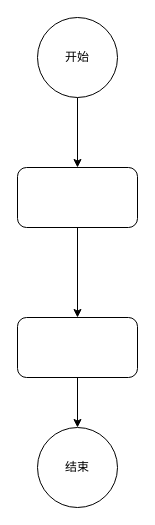
The diagram is 155 pixels wide and 525 high, and some of its shapes have lost their labels. The box of each missing label's shape, as (x1, y1, x2, y2) in pixels:
1级: (16, 166, 138, 228)
2级: (16, 316, 138, 378)
